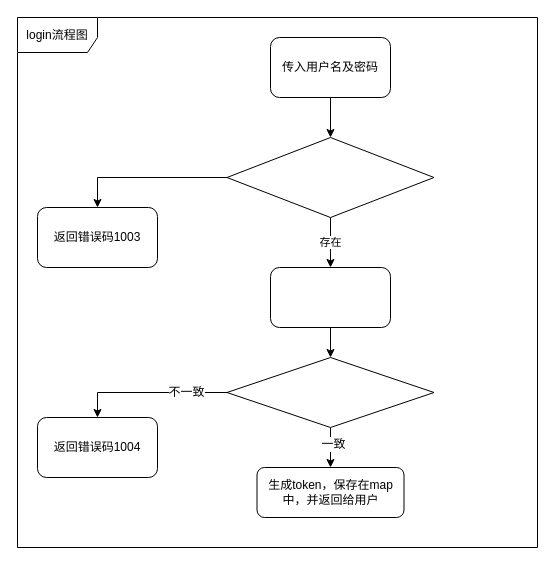
Image size: 555x565. Some labels were removed from this diagram. The box of each missing label's shape, as (x1, y1, x2, y2) in pixels:
传参密码加密: (270, 266, 390, 328)
加密密文与db记录密文是否一致: (226, 356, 434, 428)
根据用户名查询用户是否存在: (226, 136, 434, 218)
